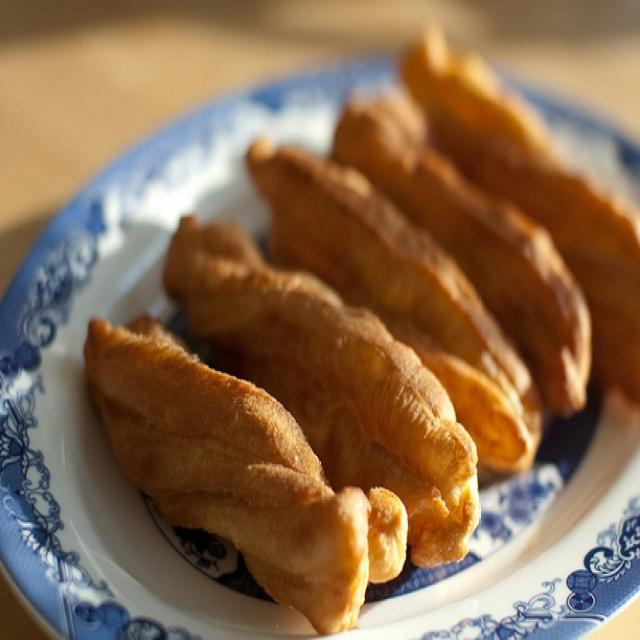炸货点心: (42, 43, 617, 610)
